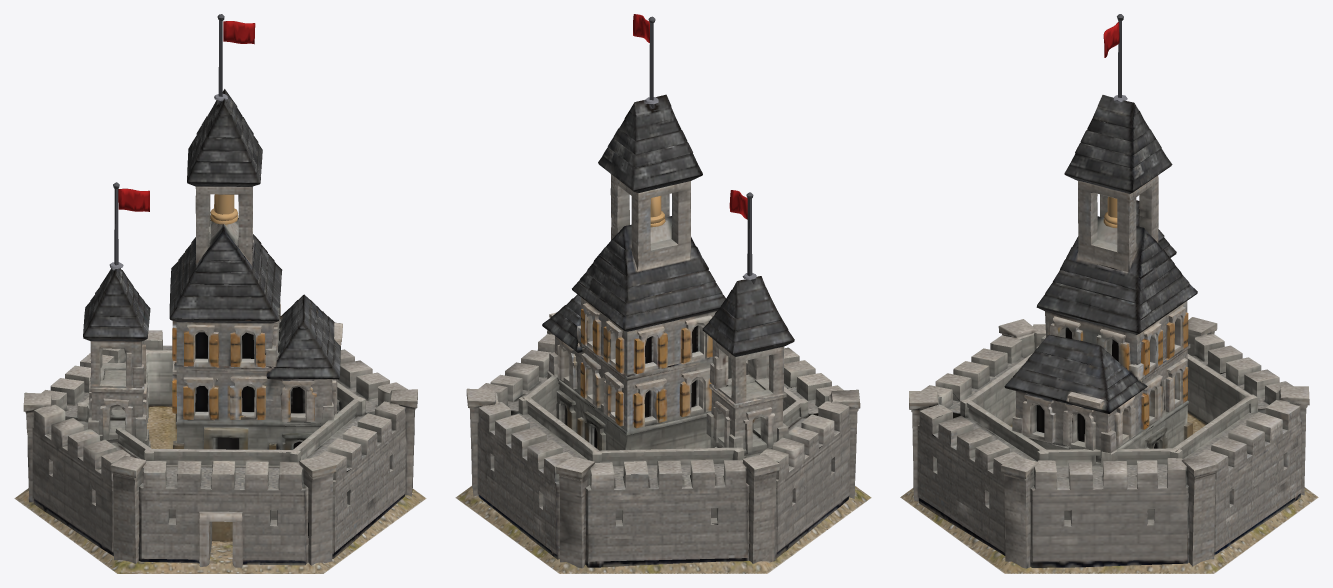
File: city.glb
3 renders of one model, left to right at view 1: azimuth 30°, elevation 25°; view 2: azimuth 150°, elevation 25°; view 3: azimuth 270°, elevation 25°, orthographic.
Parts seen in each view (by area): view 1: architecture, ground, order-cloth; view 2: architecture, ground, order-cloth; view 3: architecture, ground.
Part boxes in pixels (left/top/right/bottom): architecture: left=23, top=14, right=417, bottom=567; ground: left=14, top=488, right=426, bottom=573; order-cloth: left=118, top=21, right=255, bottom=211; architecture: left=466, top=16, right=860, bottom=568; ground: left=455, top=486, right=871, bottom=573; order-cloth: left=633, top=14, right=747, bottom=219; architecture: left=909, top=14, right=1309, bottom=568; ground: left=900, top=487, right=1318, bottom=573.
Size of the model in its own units: 1.61 by 2.36 by 1.84.
Materials: 3 (3 with a texture image).
